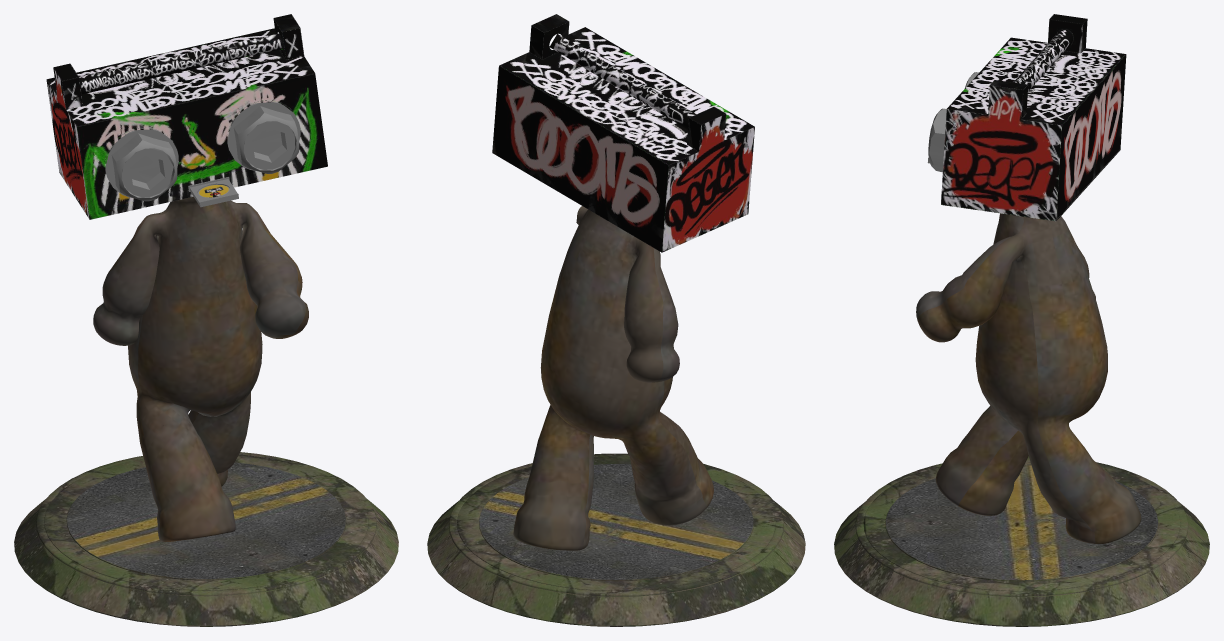
3 views of the same model, side by side, from view 1: azimuth 30°, elevation 25°; view 2: azimuth 150°, elevation 25°; view 3: azimuth 270°, elevation 25° (orthographic). The views are drawn at different scales.
Size of the model in its own units: 1.45 by 2.12 by 1.45.
8 materials, 5 textured.
